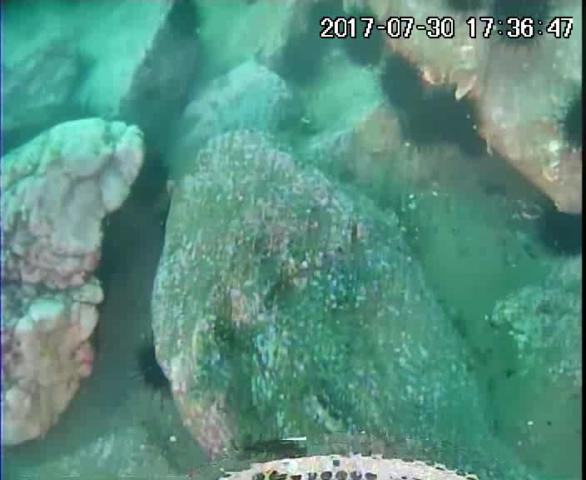echinus: (411, 85, 477, 153), (490, 1, 552, 50), (337, 9, 384, 67), (537, 204, 586, 258), (381, 56, 428, 110), (128, 152, 172, 208), (283, 34, 329, 87), (135, 343, 172, 396), (563, 87, 586, 157), (166, 1, 204, 39)
